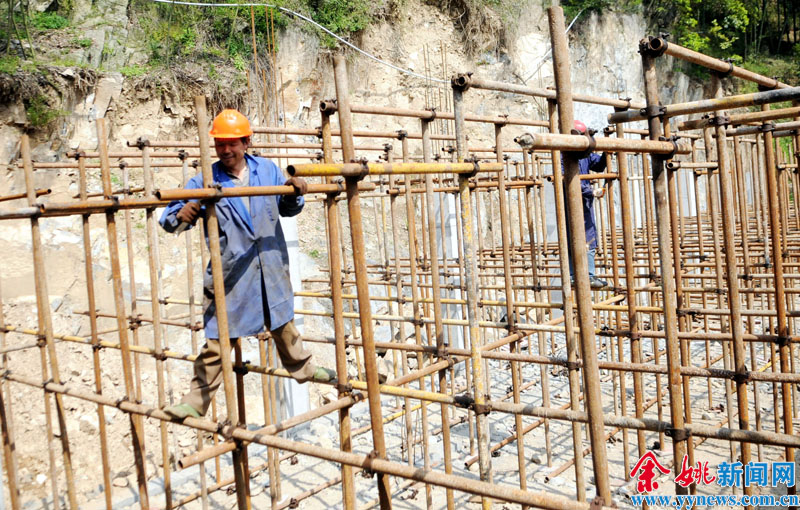safetyhat: (178, 105, 325, 402)
